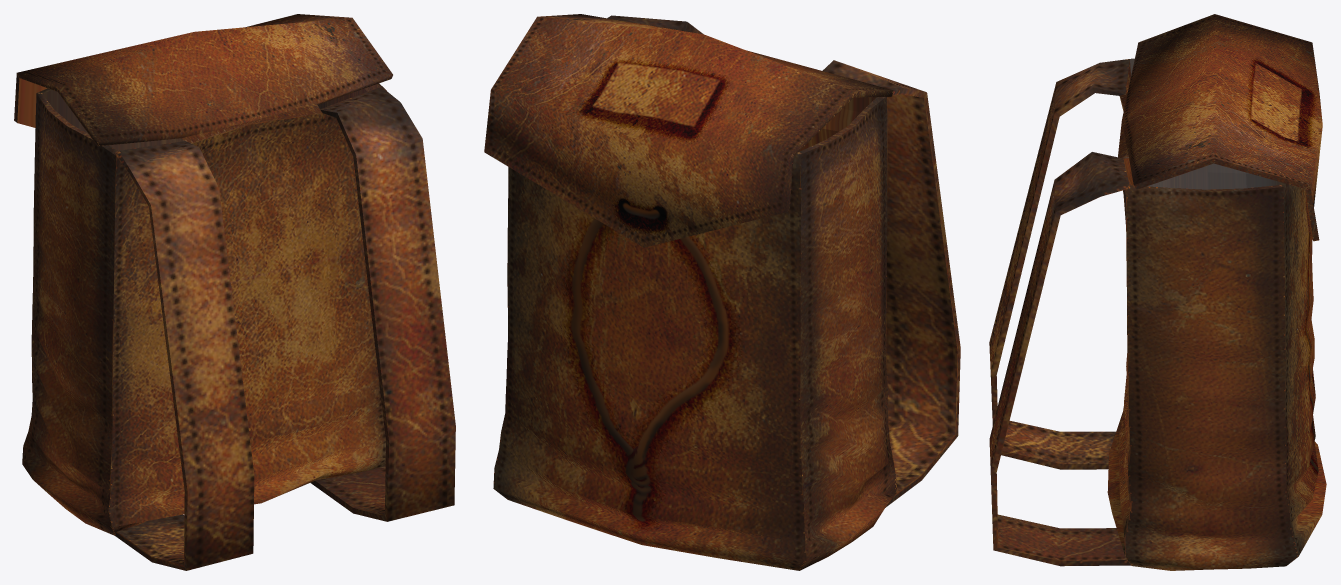
Rendered from Backpack.fbx.
3 views of the same model, side by side, from view 1: azimuth 30°, elevation 25°; view 2: azimuth 150°, elevation 25°; view 3: azimuth 270°, elevation 25° (orthographic). The views are drawn at different scales.
Visible parts, largest first — view 1: Backpack; view 2: Backpack; view 3: Backpack.
Boxes of the visible parts, x1=… form: Backpack: x1=14, y1=14, x2=455, y2=570; Backpack: x1=484, y1=14, x2=960, y2=570; Backpack: x1=989, y1=14, x2=1326, y2=570.
Bounding box in the file's own units: 190 × 258 × 181.
